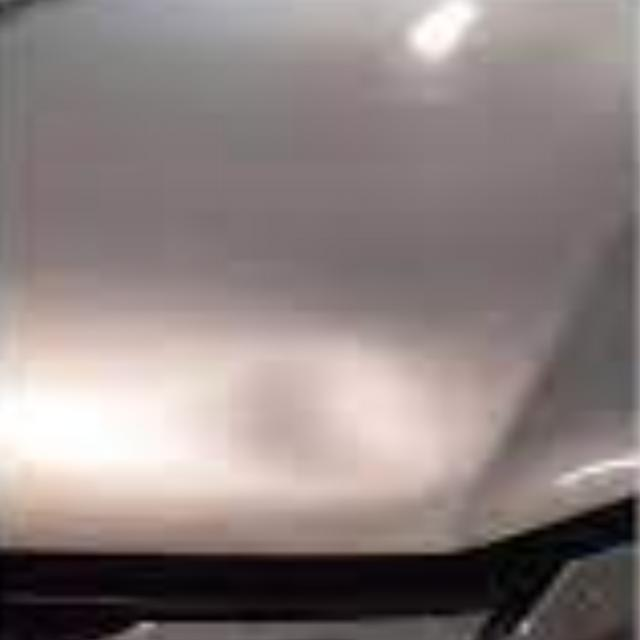dents: (210, 332, 454, 510)
